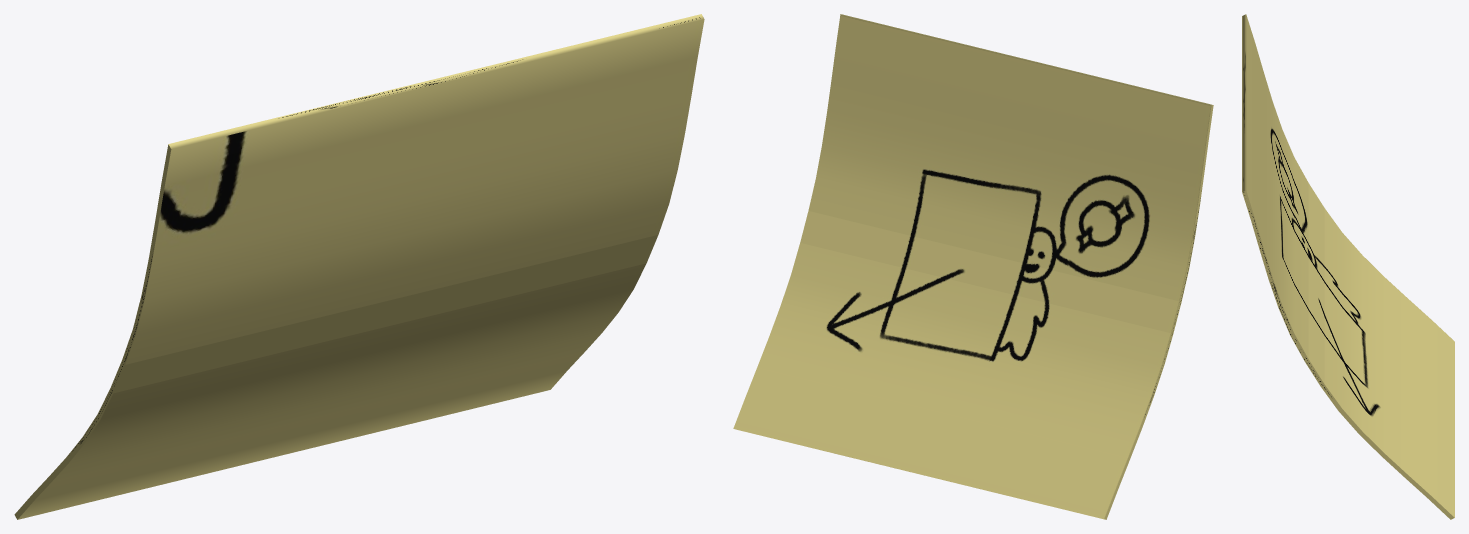
The model's file is 2Day Paper 2.fbx.
The picture shows the model from 3 angles, left to right: view 1: azimuth 30°, elevation 25°; view 2: azimuth 150°, elevation 25°; view 3: azimuth 270°, elevation 25°; orthographic projection. The views are drawn at different scales.
Parts seen in each view (by area): view 1: Cube; view 2: Cube; view 3: Cube.
Boxes of the visible parts, x1,y1,x2,y2 form: Cube: (14, 14, 704, 519); Cube: (733, 14, 1213, 519); Cube: (1242, 14, 1454, 519).
Bounding box in the file's own units: 200 × 174 × 102.
